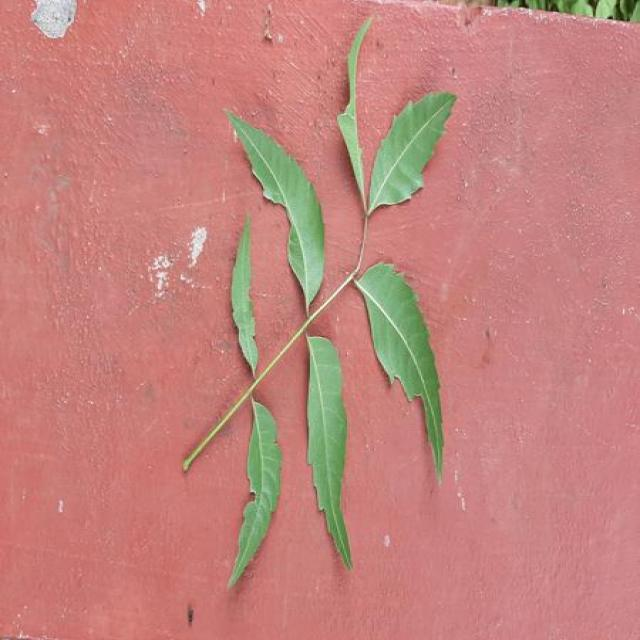neem: (228, 20, 455, 477), (308, 336, 347, 513)
